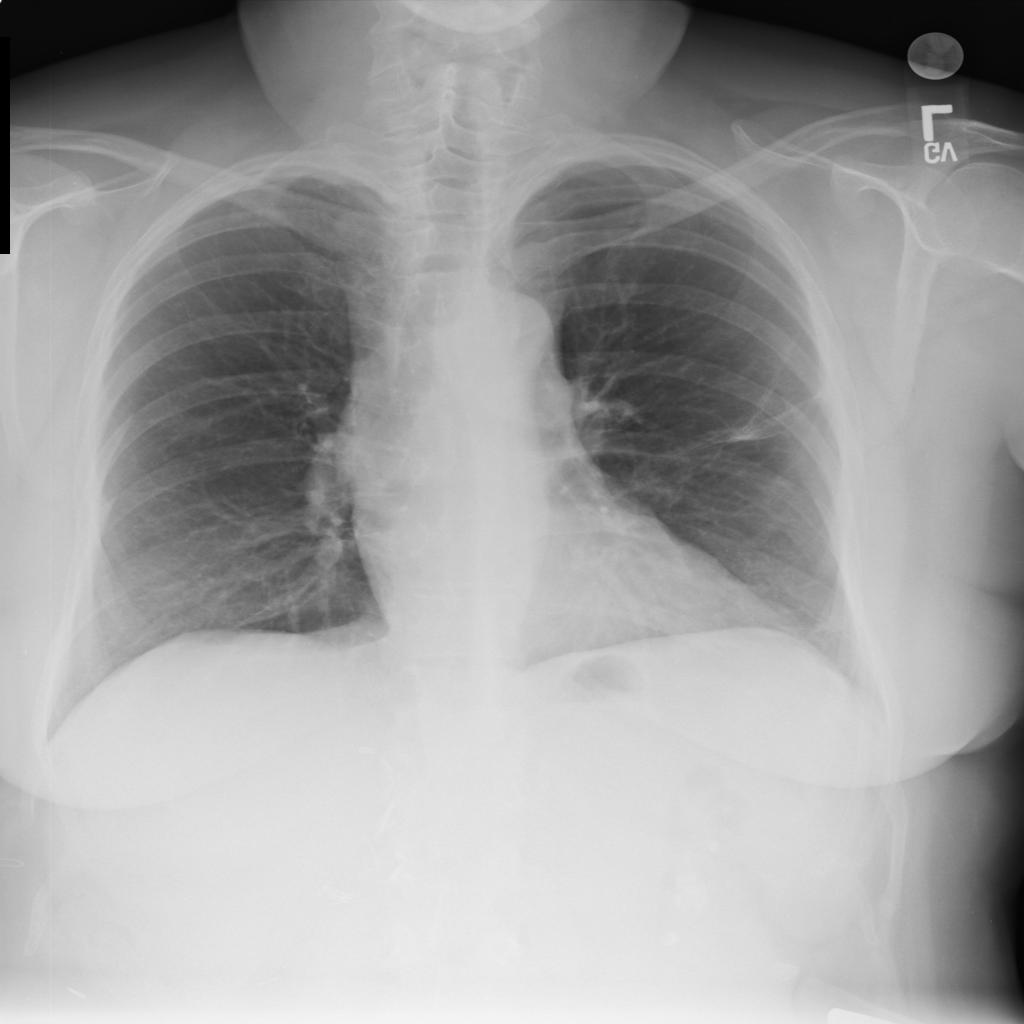nodule: (706, 402, 789, 463)
